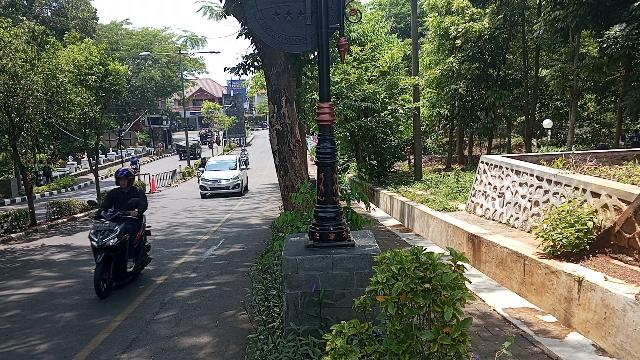helm: (116, 169, 136, 187)
motor: (86, 211, 153, 300)
